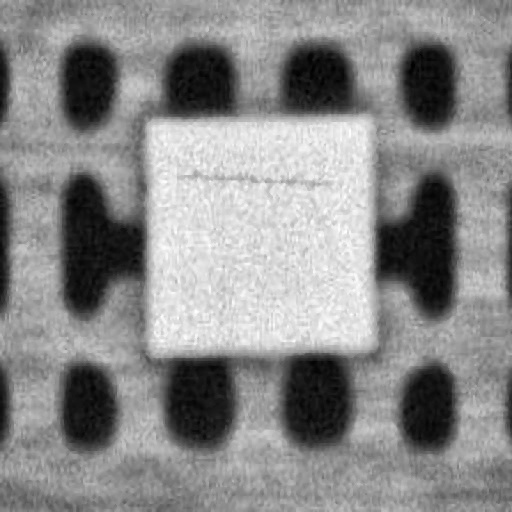DIE_CRACK: (262, 115, 490, 121)
